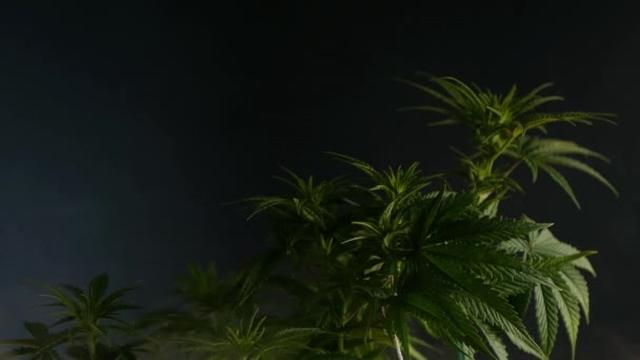Marijuana Plant: (0, 0, 573, 360)
